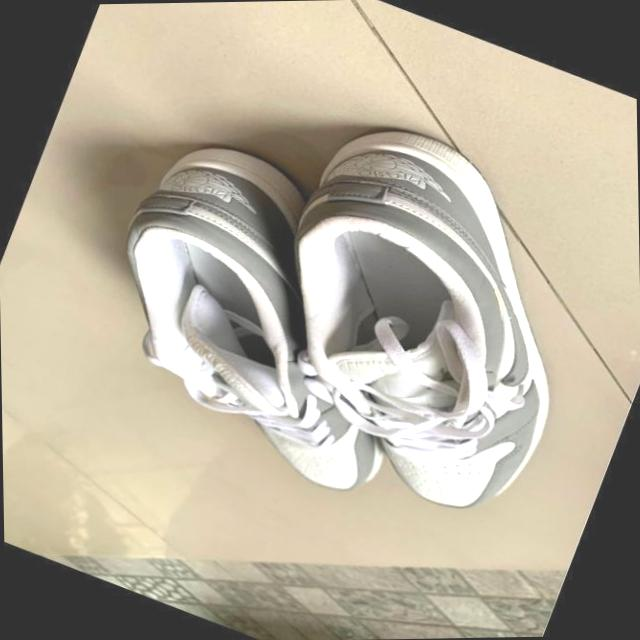nike_fake_jordan: (210, 74, 640, 538), (41, 104, 474, 506)
